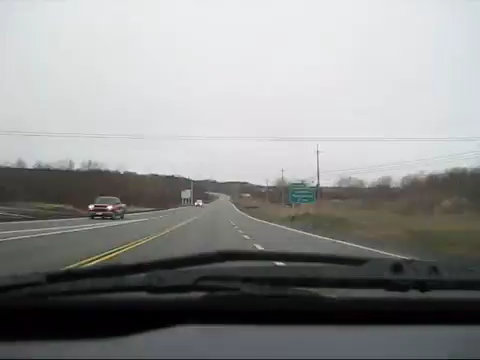car: (86, 195, 128, 221), (193, 198, 204, 208)
